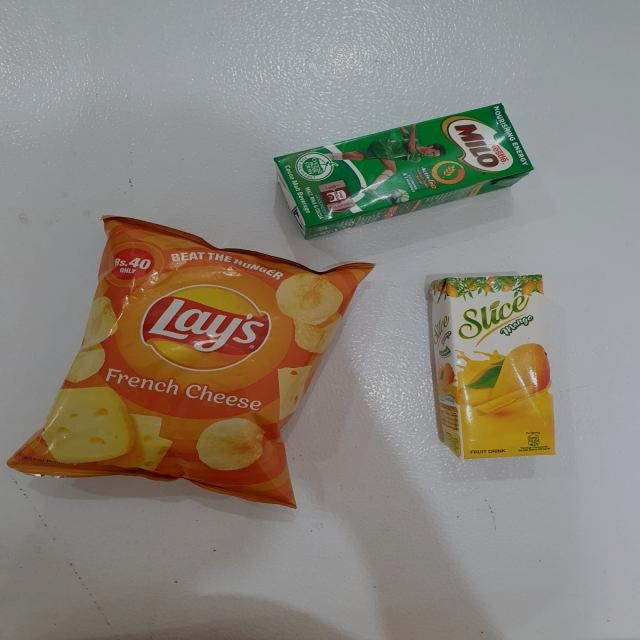lays-small: (43, 224, 343, 490)
milo-180ml: (284, 103, 531, 222)
slice-200ml: (448, 277, 547, 449)
